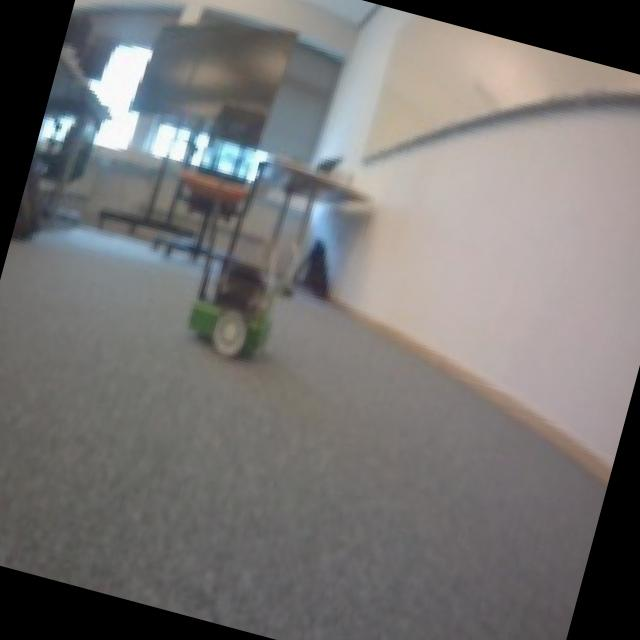robot: (178, 248, 286, 364)
